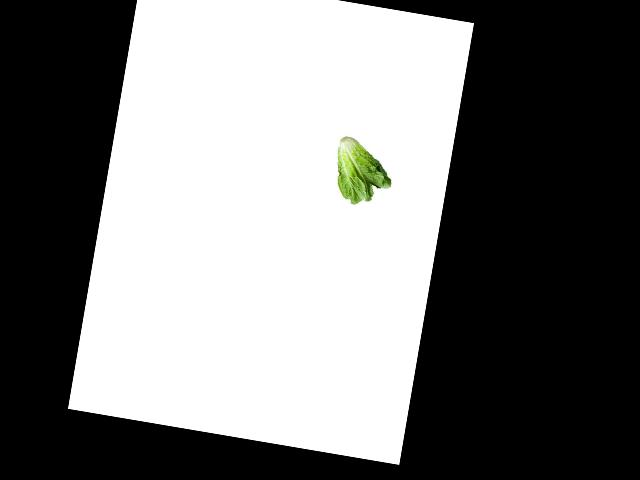lettuce: (324, 130, 401, 210)
